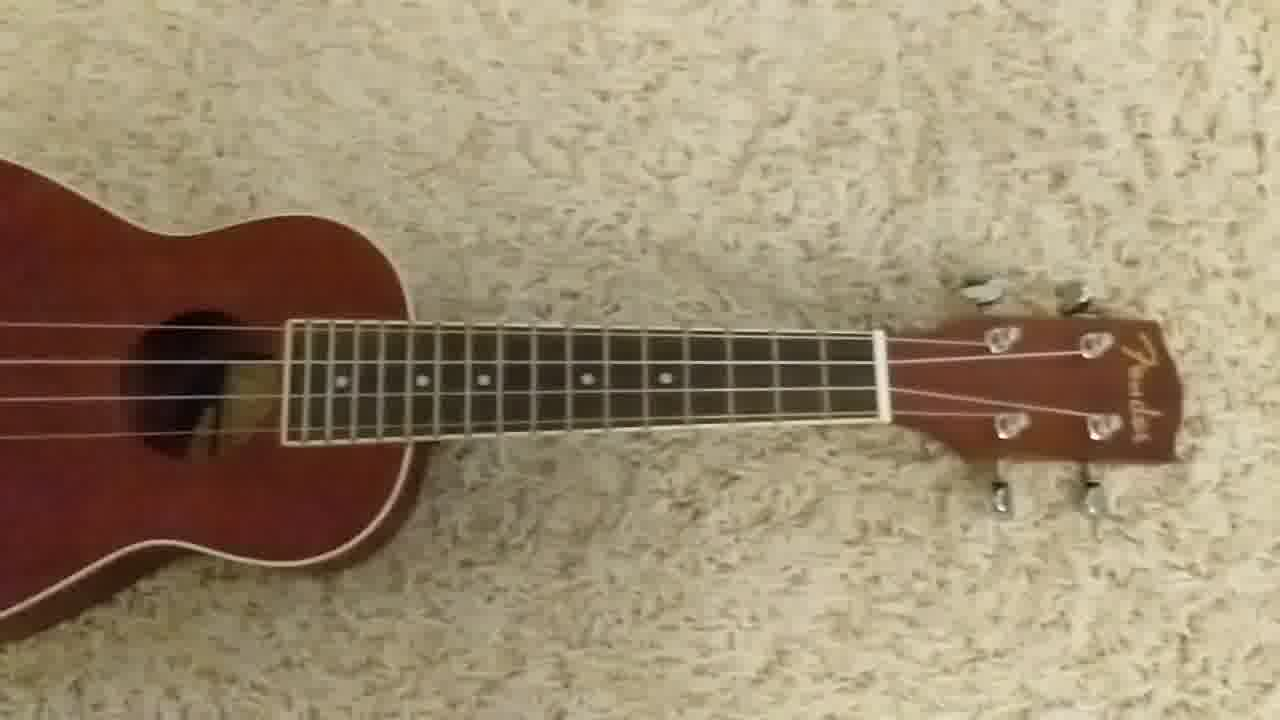Body: (1, 150, 431, 645)
Headstock: (888, 266, 1187, 520)
